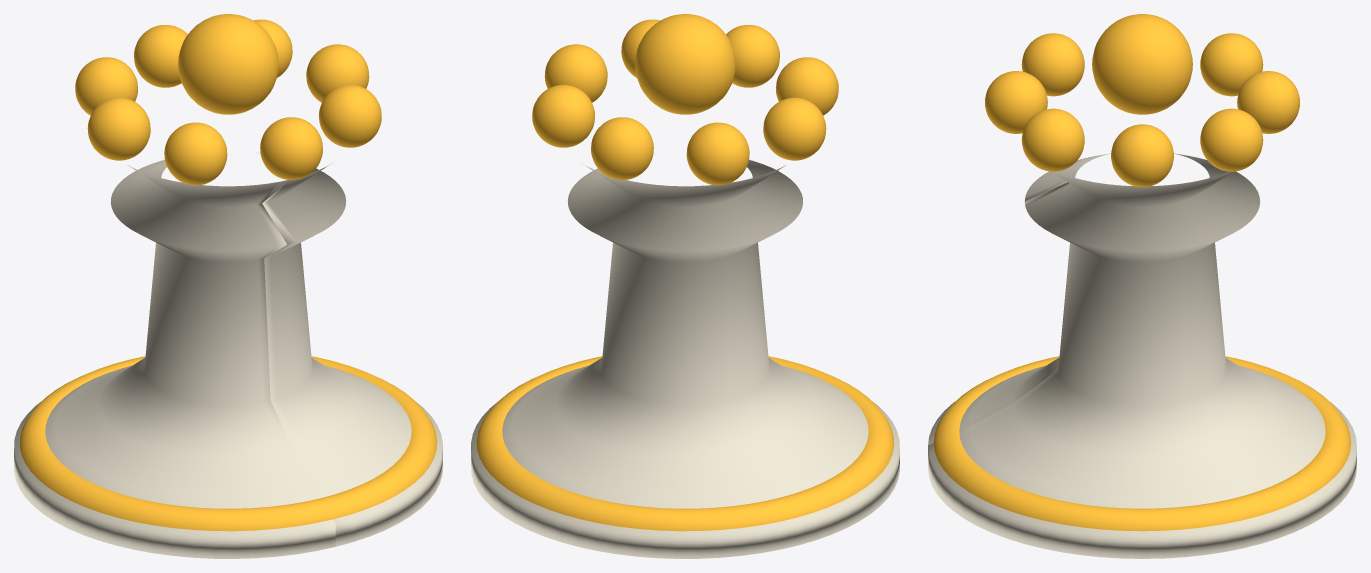
3 views of the same model, side by side, from view 1: azimuth 30°, elevation 25°; view 2: azimuth 150°, elevation 25°; view 3: azimuth 270°, elevation 25° (orthographic).
Size of the model in its own units: 1.02 by 1.18 by 1.02.
